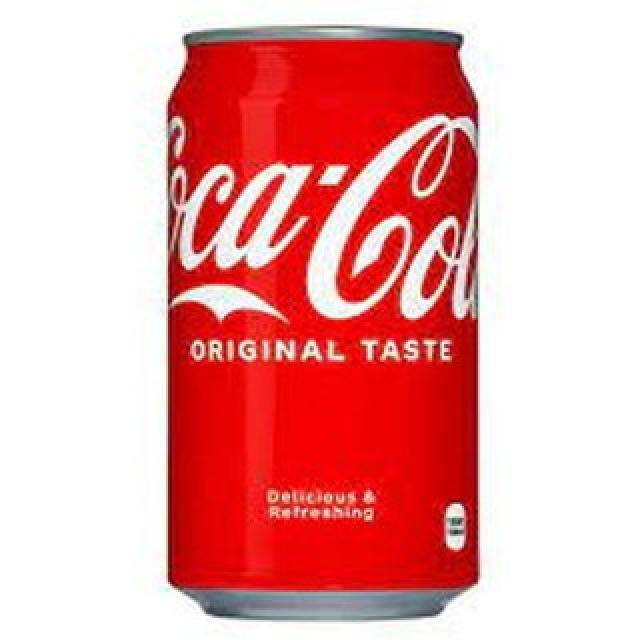can: (160, 27, 485, 624)
